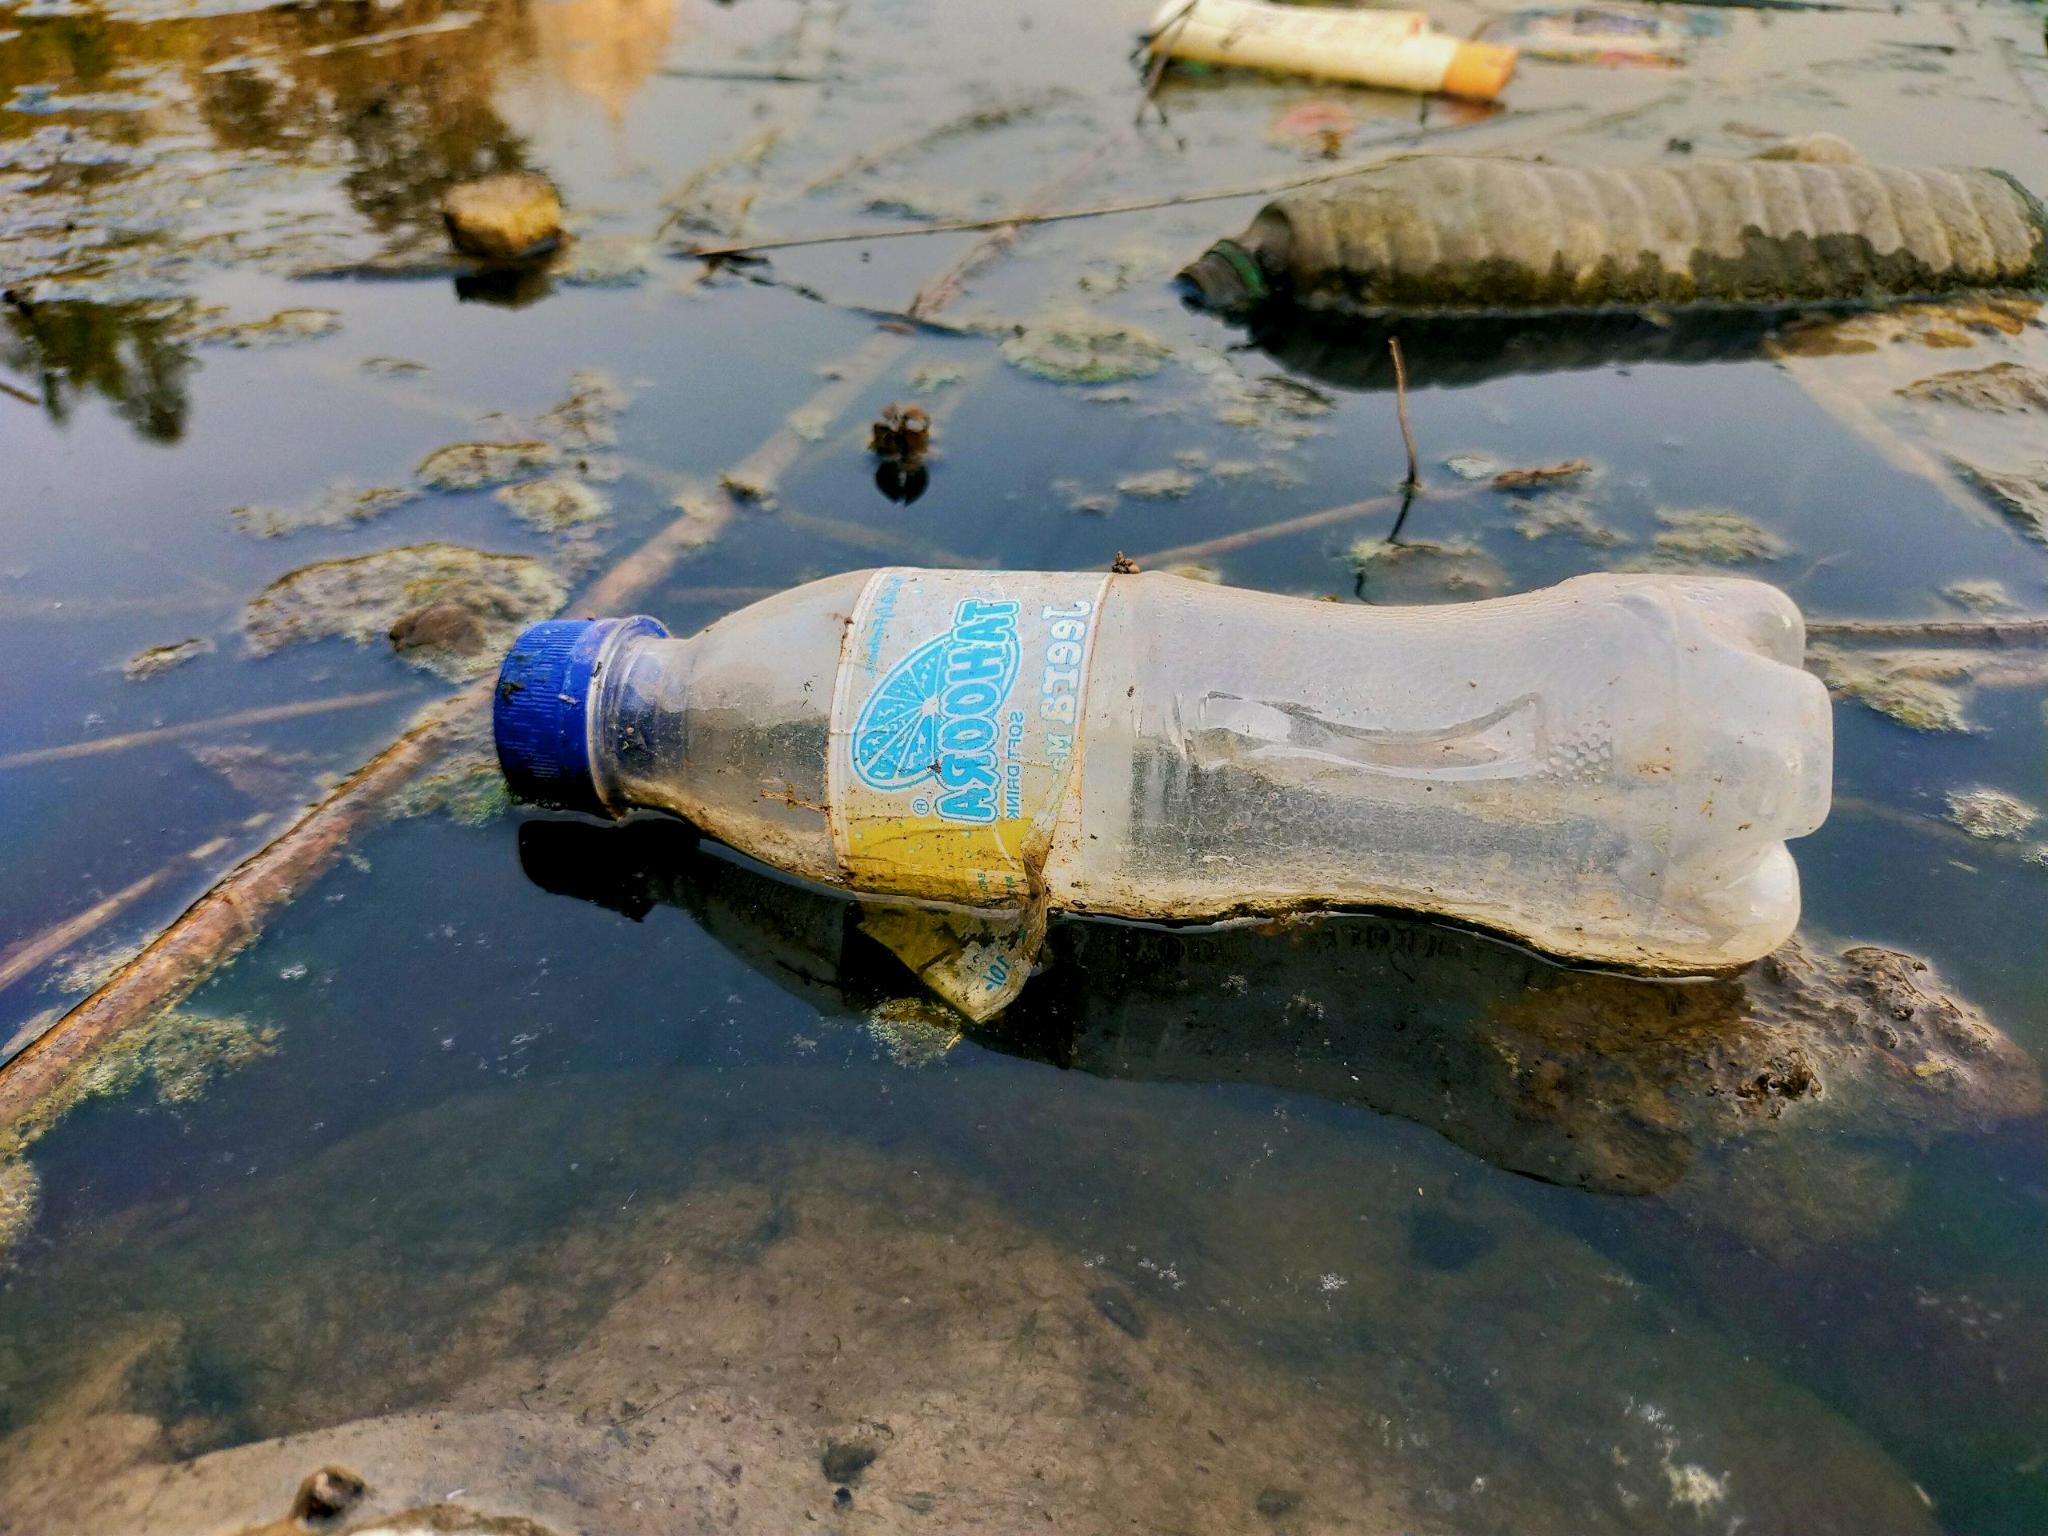bottle: (486, 555, 1862, 988)
